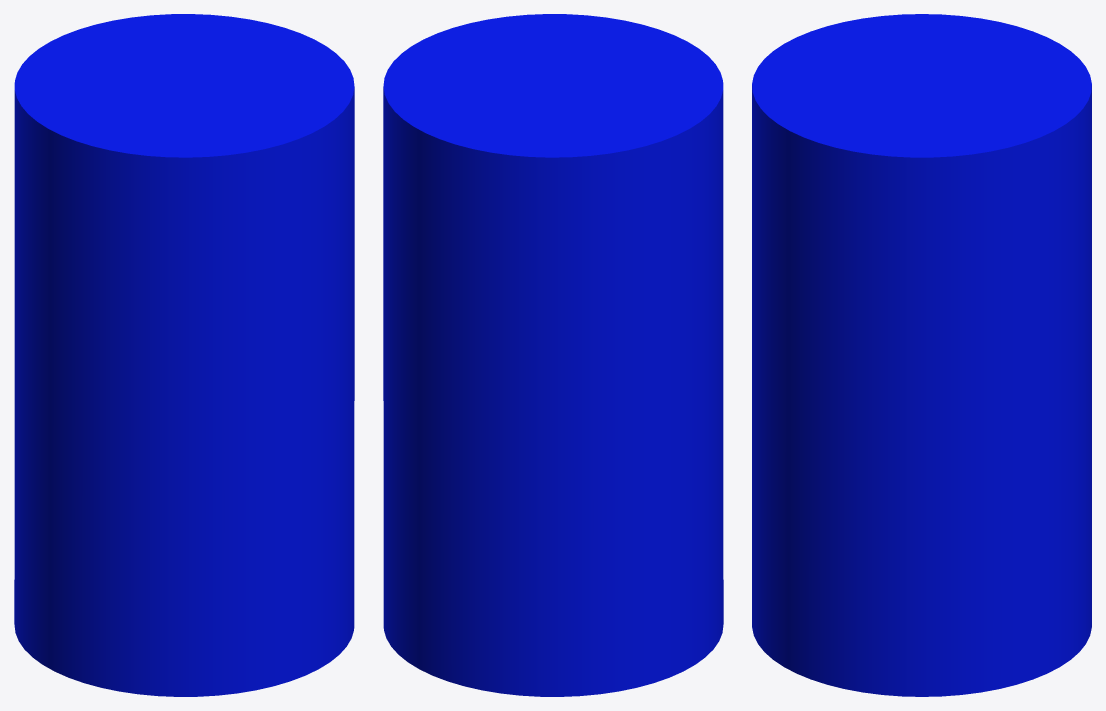
Rendered from body2_visual.obj.
The picture shows the model from 3 angles, left to right: view 1: azimuth 30°, elevation 25°; view 2: azimuth 150°, elevation 25°; view 3: azimuth 270°, elevation 25°; orthographic projection.
Visible parts, largest first — view 1: Body2; view 2: Body2; view 3: Body2.
Part boxes in pixels (x1,y1,x2,y2): Body2: (14,14,354,696); Body2: (383,14,723,696); Body2: (752,14,1091,696).
Bounding box in the file's own units: 4 × 7 × 4.
